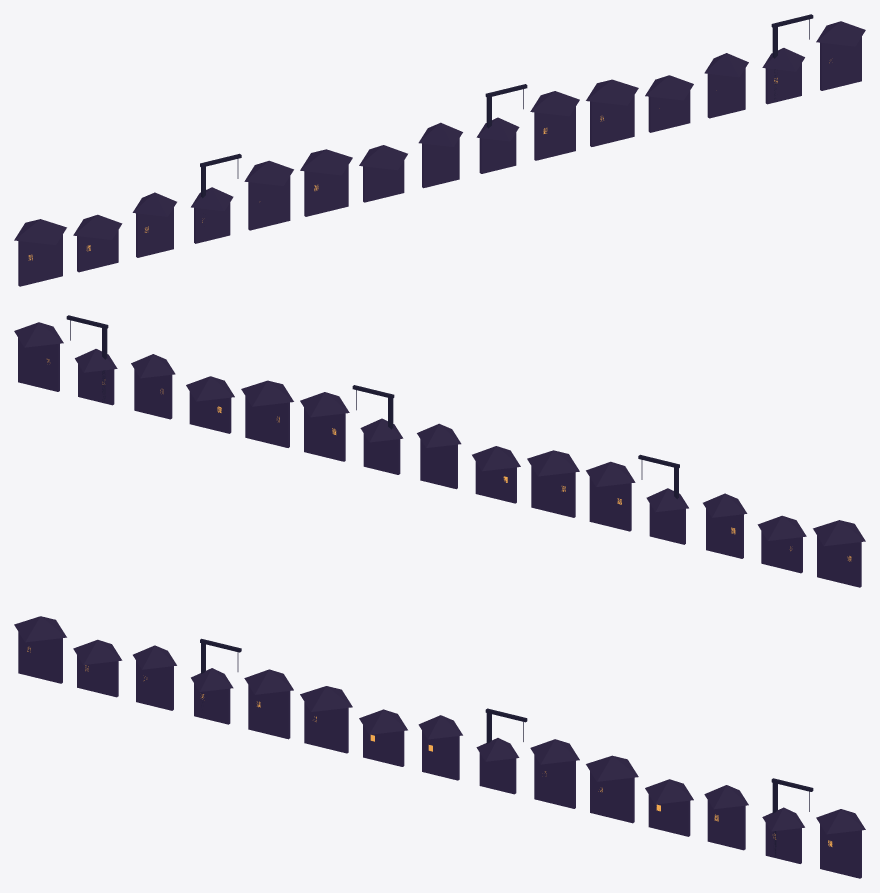
Rendered from harbor_mid.glb.
The picture shows the model from 3 angles, top to bottom: view 1: azimuth 30°, elevation 25°; view 2: azimuth 150°, elevation 25°; view 3: azimuth 330°, elevation 25°; orthographic projection.
Visible parts, largest first — view 1: Cube.024, Cube.028, Cube.026, Cube, Cube.004, Cube.002, Cube.016, Cube.012, Cube.014, Cube.010, Cube.008, Cube.006 (+18 smaller); view 2: Cube.024, Cube.028, Cube.026, Cube, Cube.004, Cube.002, Cube.016, Cube.012, Cube.014, Cube.010, Cube.006, Cube.008 (+18 smaller); view 3: Cube.024, Cube.026, Cube.028, Cube.004, Cube.002, Cube, Cube.016, Cube.012, Cube.014, Cube.010, Cube.006, Cube.008 (+18 smaller).
Part boxes in pixels (x1=…): Cube.024: x1=248, y1=176, x2=290, y2=230; Cube.028: x1=820, y1=37, x2=861, y2=90; Cube.026: x1=534, y1=107, x2=575, y2=160; Cube: x1=18, y1=234, x2=62, y2=286; Cube.004: x1=590, y1=95, x2=634, y2=146; Cube.002: x1=304, y1=165, x2=348, y2=216; Cube.016: x1=707, y1=68, x2=745, y2=118; Cube.012: x1=136, y1=208, x2=173, y2=257; Cube.014: x1=422, y1=138, x2=459, y2=188; Cube.010: x1=648, y1=90, x2=690, y2=132; Cube.008: x1=363, y1=160, x2=404, y2=202; Cube.006: x1=77, y1=230, x2=118, y2=272; Cube.024: x1=589, y1=477, x2=631, y2=531; Cube.028: x1=18, y1=338, x2=59, y2=391; Cube.026: x1=304, y1=408, x2=345, y2=461; Cube: x1=817, y1=535, x2=861, y2=587; Cube.004: x1=245, y1=396, x2=289, y2=447; Cube.002: x1=531, y1=466, x2=575, y2=517; Cube.016: x1=134, y1=369, x2=172, y2=419; Cube.012: x1=706, y1=509, x2=743, y2=558; Cube.014: x1=420, y1=439, x2=457, y2=489; Cube.010: x1=189, y1=391, x2=231, y2=433; Cube.006: x1=761, y1=531, x2=802, y2=573; Cube.008: x1=475, y1=461, x2=516, y2=503; Cube.024: x1=248, y1=685, x2=290, y2=739; Cube.026: x1=534, y1=755, x2=575, y2=808; Cube.028: x1=820, y1=824, x2=861, y2=878; Cube.004: x1=590, y1=771, x2=634, y2=823; Cube.002: x1=304, y1=702, x2=348, y2=753; Cube: x1=18, y1=632, x2=62, y2=683; Cube.016: x1=707, y1=800, x2=745, y2=850; Cube.012: x1=136, y1=661, x2=173, y2=710; Cube.014: x1=422, y1=731, x2=459, y2=780; Cube.010: x1=648, y1=794, x2=690, y2=836; Cube.006: x1=77, y1=655, x2=118, y2=697; Cube.008: x1=363, y1=725, x2=404, y2=766.
Size of the model in its own units: 59.61 by 5.2 by 3.72.
